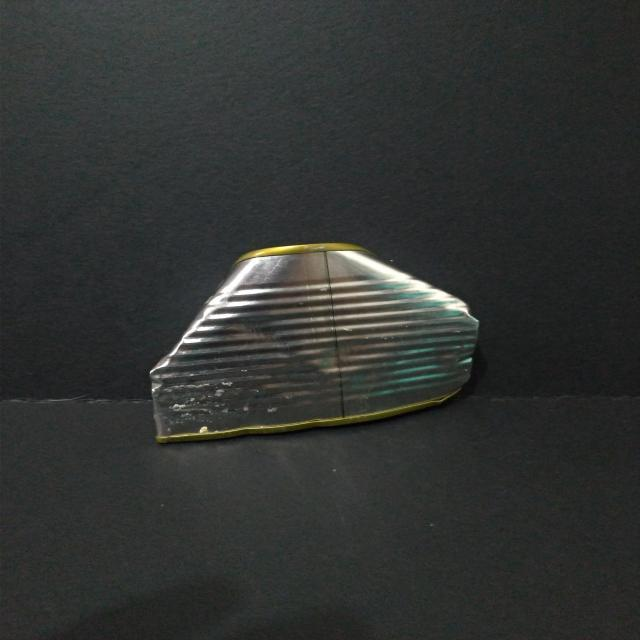metal-can: (143, 238, 485, 448)
